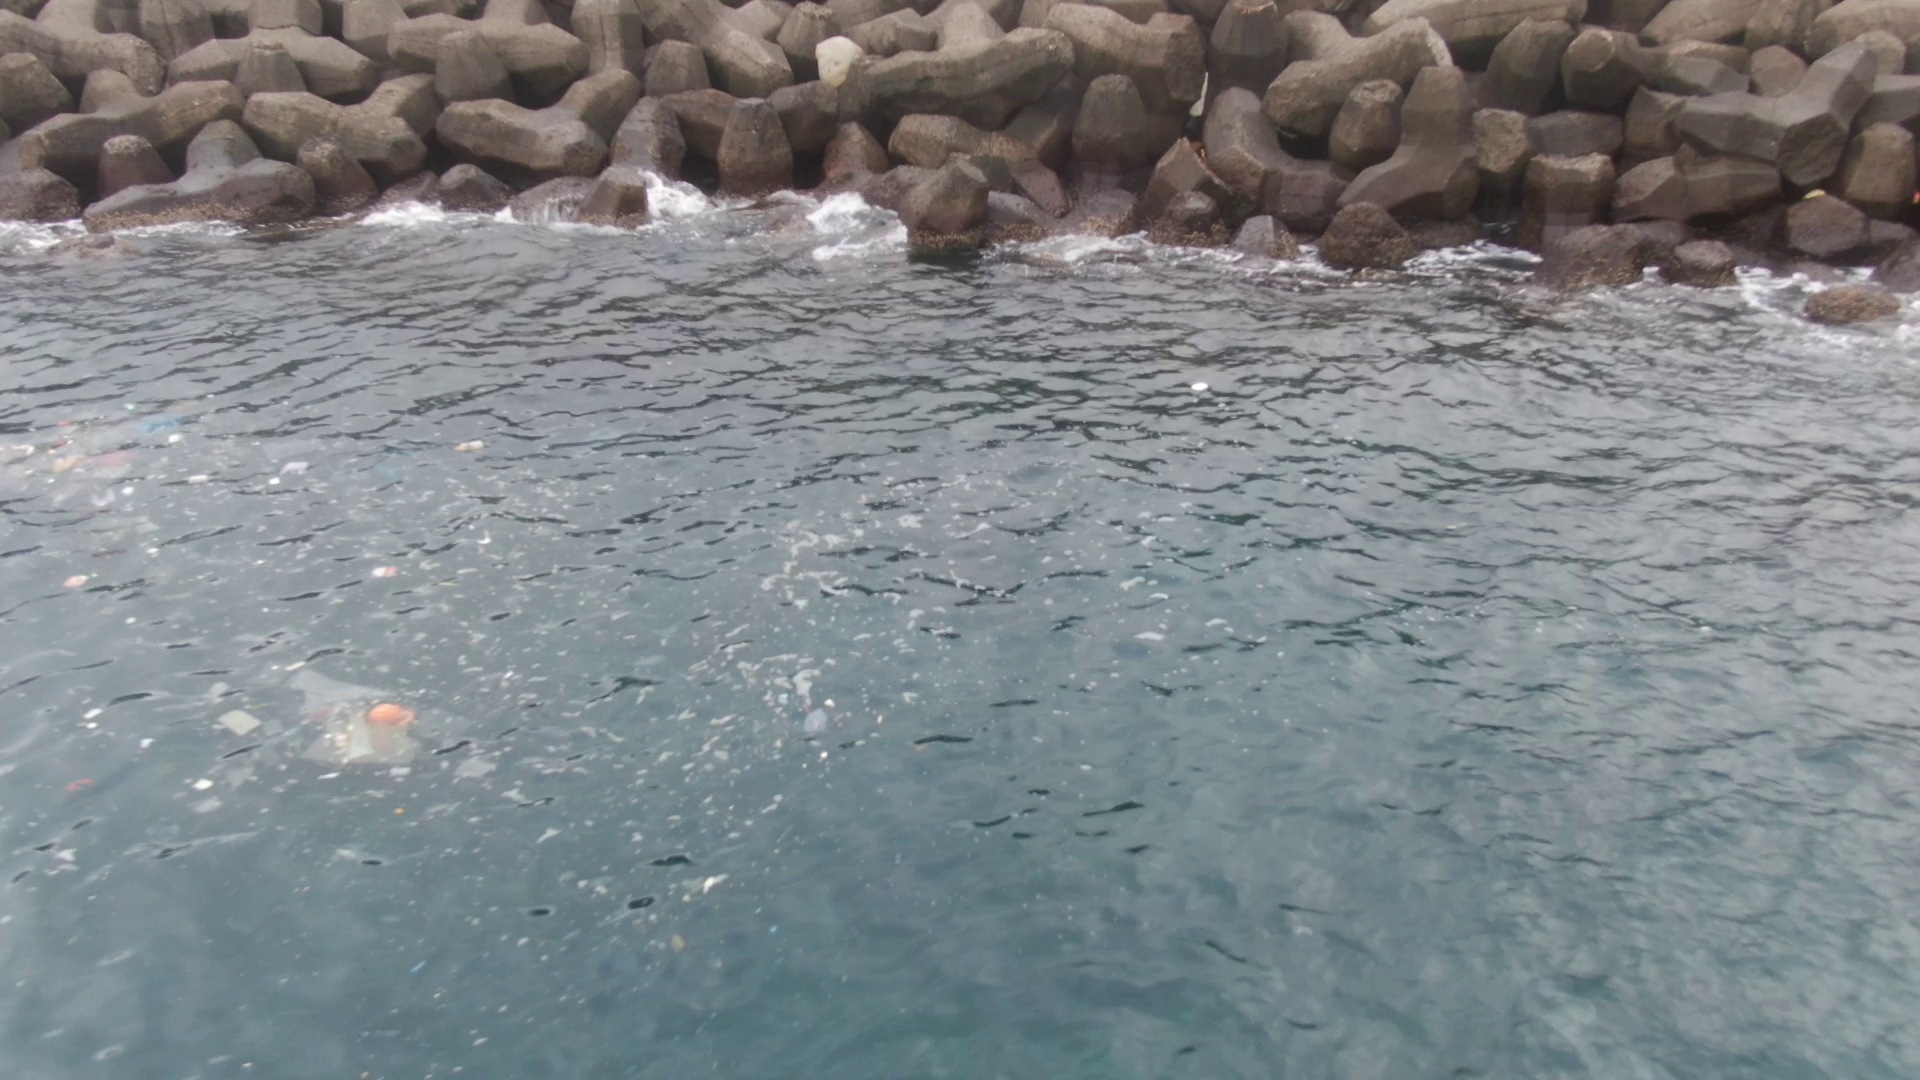garbage: (314, 676, 430, 760)
